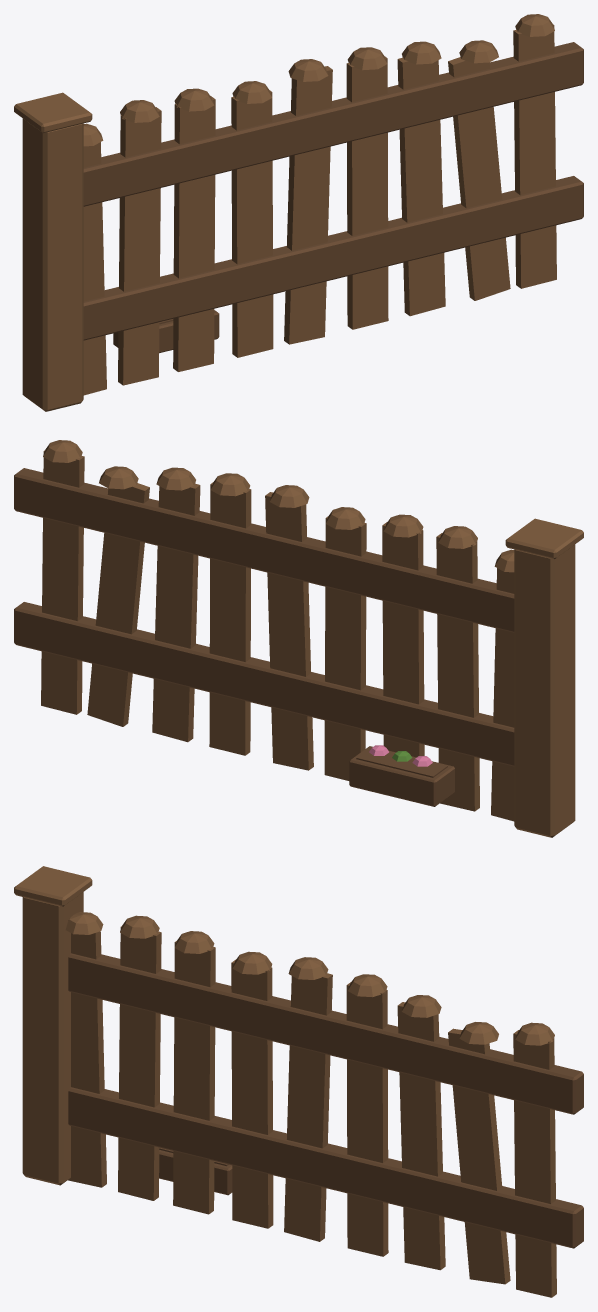
Rendered from SM_Fence_TavernPicket_02_Straight.fbx.
The picture shows the model from 3 angles, top to bottom: view 1: azimuth 30°, elevation 25°; view 2: azimuth 150°, elevation 25°; view 3: azimuth 330°, elevation 25°; orthographic projection.
Visible parts, largest first — view 1: SM_Fence_TavernPicket_02_Straight_RailTop, SM_Fence_TavernPicket_02_Straight_RailBot, SM_Fence_TavernPicket_02_Straight_Post, SM_Fence_TavernPicket_02_Straight_Pk1, SM_Fence_TavernPicket_02_Straight_Pk4, SM_Fence_TavernPicket_02_Straight_Pk2, SM_Fence_TavernPicket_02_Straight_Pk5, SM_Fence_TavernPicket_02_Straight_Pk3, SM_Fence_TavernPicket_02_Straight_Pk8, SM_Fence_TavernPicket_02_Straight_Pk6, SM_Fence_TavernPicket_02_Straight_Pk7, SM_Fence_TavernPicket_02_Straight_Pk0 (+10 smaller); view 2: SM_Fence_TavernPicket_02_Straight_RailTop, SM_Fence_TavernPicket_02_Straight_RailBot, SM_Fence_TavernPicket_02_Straight_Post, SM_Fence_TavernPicket_02_Straight_Pk4, SM_Fence_TavernPicket_02_Straight_Pk5, SM_Fence_TavernPicket_02_Straight_Pk8, SM_Fence_TavernPicket_02_Straight_Pk6, SM_Fence_TavernPicket_02_Straight_Pk1, SM_Fence_TavernPicket_02_Straight_Pk3, SM_Fence_TavernPicket_02_Straight_Pk7, SM_Fence_TavernPicket_02_Straight_Pk2, SM_Fence_TavernPicket_02_Straight_Pk0 (+11 smaller); view 3: SM_Fence_TavernPicket_02_Straight_RailTop, SM_Fence_TavernPicket_02_Straight_RailBot, SM_Fence_TavernPicket_02_Straight_Post, SM_Fence_TavernPicket_02_Straight_Pk1, SM_Fence_TavernPicket_02_Straight_Pk4, SM_Fence_TavernPicket_02_Straight_Pk2, SM_Fence_TavernPicket_02_Straight_Pk5, SM_Fence_TavernPicket_02_Straight_Pk3, SM_Fence_TavernPicket_02_Straight_Pk6, SM_Fence_TavernPicket_02_Straight_Pk8, SM_Fence_TavernPicket_02_Straight_Pk7, SM_Fence_TavernPicket_02_Straight_Pk0 (+11 smaller).
Part boxes in pixels (x1=…): SM_Fence_TavernPicket_02_Straight_RailTop: x1=83, y1=42, x2=583, y2=206; SM_Fence_TavernPicket_02_Straight_RailBot: x1=83, y1=176, x2=583, y2=340; SM_Fence_TavernPicket_02_Straight_Post: x1=22, y1=118, x2=83, y2=411; SM_Fence_TavernPicket_02_Straight_Pk1: x1=118, y1=107, x2=161, y2=385; SM_Fence_TavernPicket_02_Straight_Pk4: x1=284, y1=66, x2=332, y2=344; SM_Fence_TavernPicket_02_Straight_Pk2: x1=173, y1=96, x2=215, y2=371; SM_Fence_TavernPicket_02_Straight_Pk5: x1=346, y1=56, x2=388, y2=329; SM_Fence_TavernPicket_02_Straight_Pk3: x1=231, y1=90, x2=273, y2=357; SM_Fence_TavernPicket_02_Straight_Pk8: x1=513, y1=24, x2=556, y2=288; SM_Fence_TavernPicket_02_Straight_Pk6: x1=397, y1=57, x2=445, y2=316; SM_Fence_TavernPicket_02_Straight_Pk7: x1=448, y1=57, x2=510, y2=300; SM_Fence_TavernPicket_02_Straight_Pk0: x1=83, y1=142, x2=106, y2=395; SM_Fence_TavernPicket_02_Straight_RailTop: x1=14, y1=468, x2=514, y2=632; SM_Fence_TavernPicket_02_Straight_RailBot: x1=14, y1=602, x2=514, y2=766; SM_Fence_TavernPicket_02_Straight_Post: x1=514, y1=544, x2=575, y2=837; SM_Fence_TavernPicket_02_Straight_Pk4: x1=265, y1=492, x2=313, y2=770; SM_Fence_TavernPicket_02_Straight_Pk5: x1=209, y1=482, x2=251, y2=755; SM_Fence_TavernPicket_02_Straight_Pk8: x1=41, y1=450, x2=84, y2=714; SM_Fence_TavernPicket_02_Straight_Pk6: x1=152, y1=483, x2=200, y2=742; SM_Fence_TavernPicket_02_Straight_Pk1: x1=436, y1=533, x2=479, y2=811; SM_Fence_TavernPicket_02_Straight_Pk3: x1=324, y1=516, x2=366, y2=780; SM_Fence_TavernPicket_02_Straight_Pk7: x1=87, y1=483, x2=149, y2=726; SM_Fence_TavernPicket_02_Straight_Pk2: x1=382, y1=522, x2=424, y2=757; SM_Fence_TavernPicket_02_Straight_Pk0: x1=491, y1=568, x2=514, y2=821; SM_Fence_TavernPicket_02_Straight_RailTop: x1=68, y1=953, x2=583, y2=1114; SM_Fence_TavernPicket_02_Straight_RailBot: x1=68, y1=1087, x2=583, y2=1248; SM_Fence_TavernPicket_02_Straight_Post: x1=22, y1=892, x2=83, y2=1185; SM_Fence_TavernPicket_02_Straight_Pk1: x1=118, y1=926, x2=161, y2=1200; SM_Fence_TavernPicket_02_Straight_Pk4: x1=284, y1=973, x2=332, y2=1241; SM_Fence_TavernPicket_02_Straight_Pk2: x1=173, y1=941, x2=215, y2=1214; SM_Fence_TavernPicket_02_Straight_Pk5: x1=346, y1=982, x2=388, y2=1256; SM_Fence_TavernPicket_02_Straight_Pk3: x1=231, y1=959, x2=273, y2=1228; SM_Fence_TavernPicket_02_Straight_Pk6: x1=397, y1=1002, x2=445, y2=1270; SM_Fence_TavernPicket_02_Straight_Pk8: x1=513, y1=1030, x2=556, y2=1297; SM_Fence_TavernPicket_02_Straight_Pk7: x1=448, y1=1028, x2=510, y2=1284; SM_Fence_TavernPicket_02_Straight_Pk0: x1=68, y1=931, x2=106, y2=1187.
Bounding box in the file's own units: 2.16 × 1.1 × 0.27.
